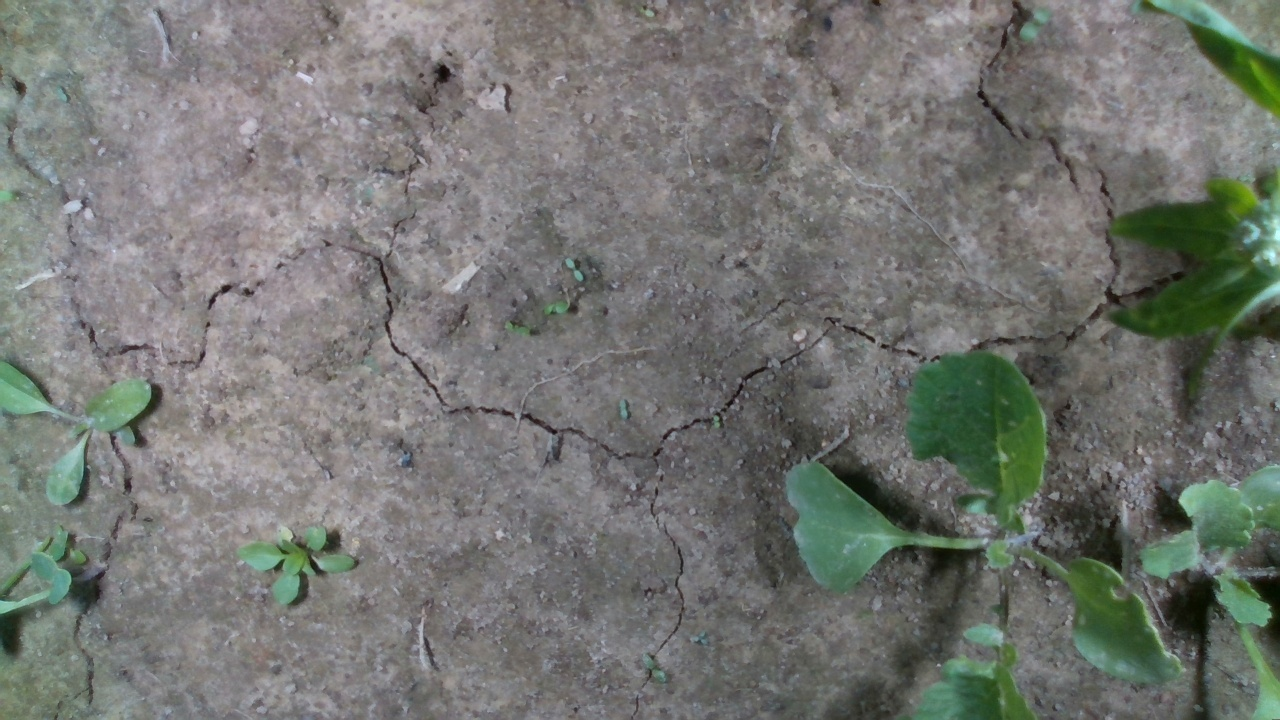weed: (1018, 4, 1052, 42), (638, 651, 667, 684), (502, 318, 533, 340), (564, 255, 584, 282), (543, 299, 570, 316), (617, 396, 630, 420), (54, 86, 69, 104), (711, 413, 722, 429)
